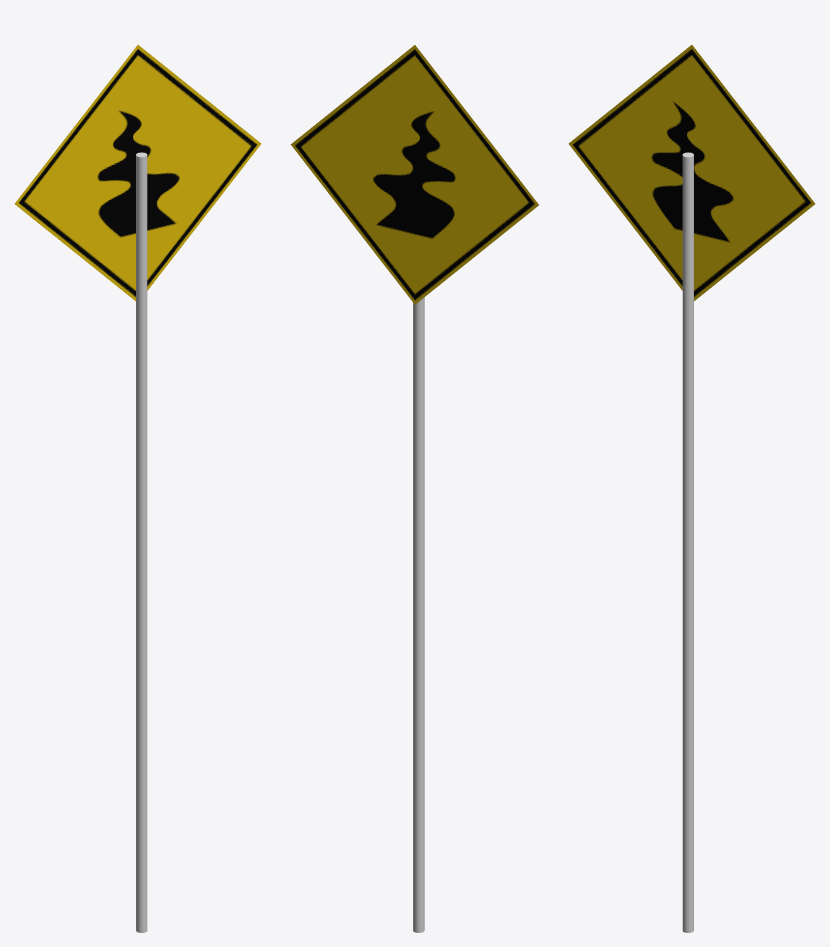
File: tak sekata.fbx
3 renders of one model, left to right at view 1: azimuth 30°, elevation 25°; view 2: azimuth 150°, elevation 25°; view 3: azimuth 330°, elevation 25°, orthographic.
Parts seen in each view (by area): view 1: Plane, Cylinder; view 2: Plane, Cylinder; view 3: Plane, Cylinder.
Boxes of the visible parts, x1,y1,x2,y2 form: Plane: (14, 45, 261, 300); Cylinder: (136, 152, 147, 932); Plane: (291, 45, 538, 304); Cylinder: (413, 297, 424, 932); Plane: (568, 45, 815, 300); Cylinder: (682, 152, 693, 932).
Size of the model in its own units: 200 by 682 by 9.27.
